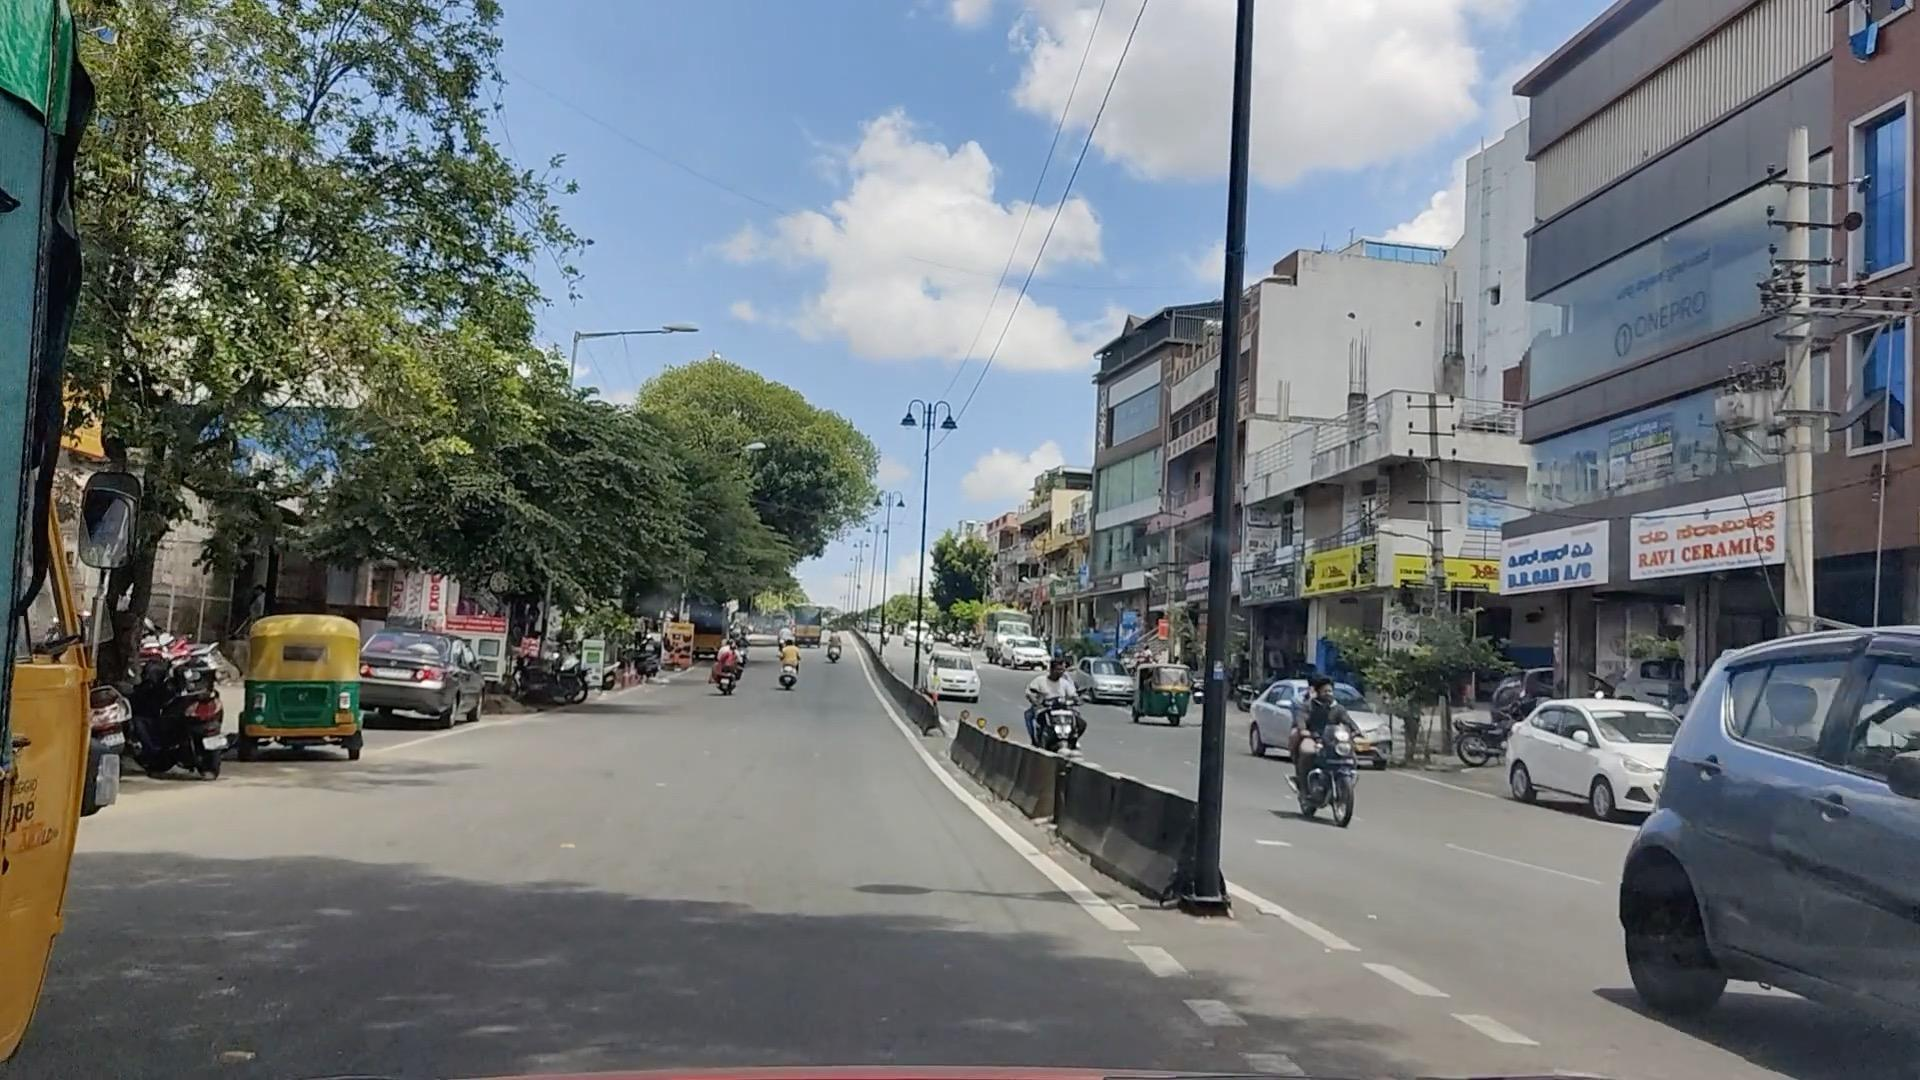LMV: (235, 617, 371, 756), (367, 630, 491, 719)
